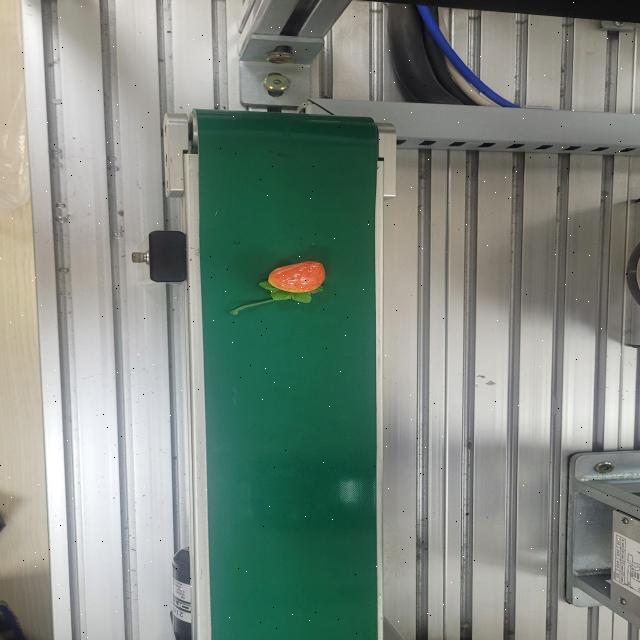Small Unripe Strawberry: (228, 258, 328, 316)
